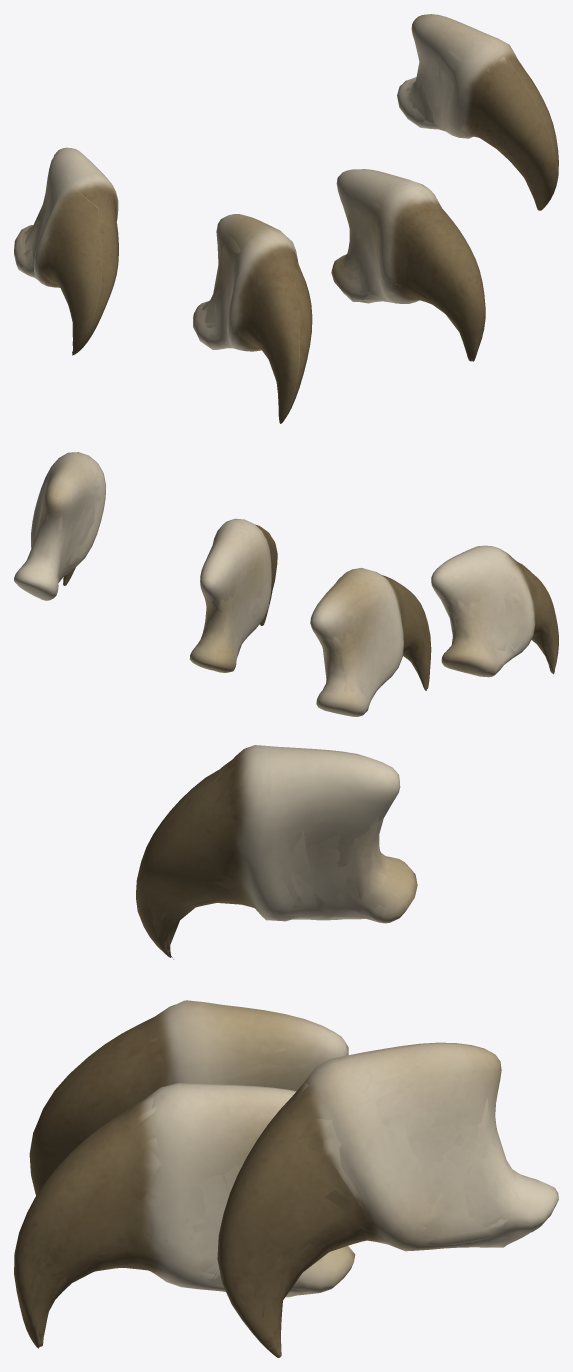
File: BL 3rd Phalanx.fbx
3 views of the same model, one above another, from view 1: azimuth 30°, elevation 25°; view 2: azimuth 150°, elevation 25°; view 3: azimuth 270°, elevation 25° (orthographic). The views are drawn at different scales.
Visible parts, largest first — view 1: BL 3rd Phalanx high, BL 3rd Phalanx low, BL 3rd Phalanx; view 2: BL 3rd Phalanx high, BL 3rd Phalanx low, BL 3rd Phalanx; view 3: BL 3rd Phalanx high, BL 3rd Phalanx low, BL 3rd Phalanx.
Part boxes in pixels (x1,y1,x2,y2): BL 3rd Phalanx high: (14, 14, 558, 423); BL 3rd Phalanx low: (24, 47, 527, 389); BL 3rd Phalanx: (22, 40, 534, 408); BL 3rd Phalanx high: (14, 452, 558, 716); BL 3rd Phalanx low: (23, 466, 552, 695); BL 3rd Phalanx: (25, 465, 555, 699); BL 3rd Phalanx high: (14, 745, 558, 1357); BL 3rd Phalanx low: (33, 766, 519, 1347); BL 3rd Phalanx: (24, 764, 537, 1341).
Bounding box in the file's own units: 8.35 × 3.93 × 4.71.
